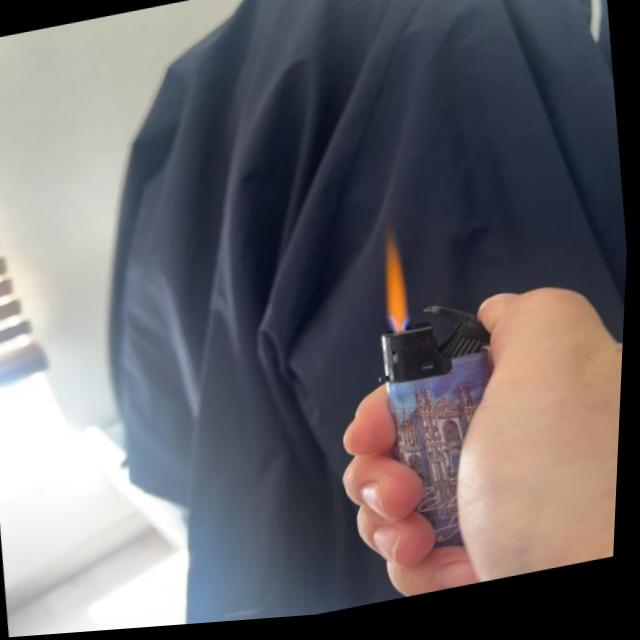Fire: (380, 240, 420, 339)
